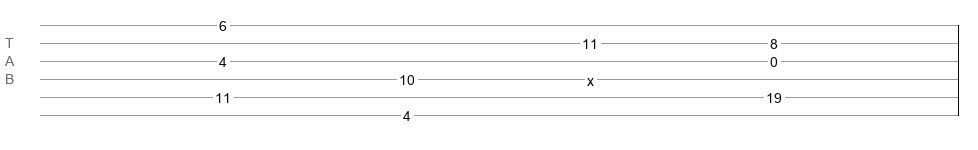0: (770, 54, 778, 64)
10: (399, 72, 415, 82)
11: (215, 90, 231, 100), (582, 36, 598, 46)
19: (766, 90, 782, 100)
4: (219, 54, 227, 64), (403, 108, 411, 118)
6: (219, 18, 227, 28)
8: (770, 36, 778, 46)
x: (587, 73, 594, 81)
